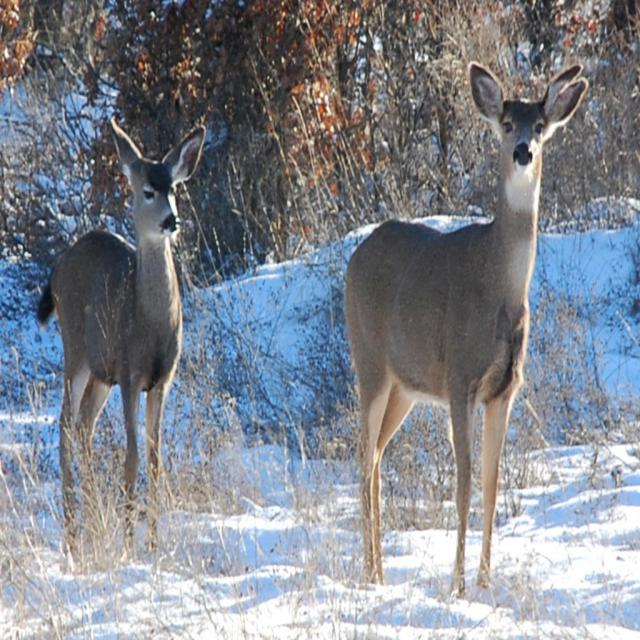Deer: (343, 60, 588, 599), (36, 118, 206, 573)
